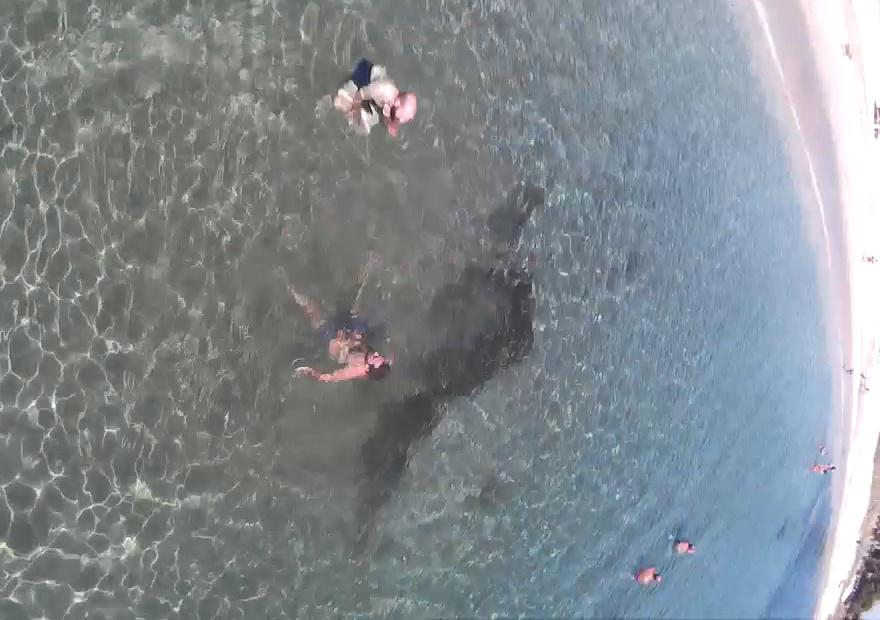human: (274, 262, 394, 399), (318, 44, 420, 158), (672, 528, 696, 566), (634, 568, 666, 590)
